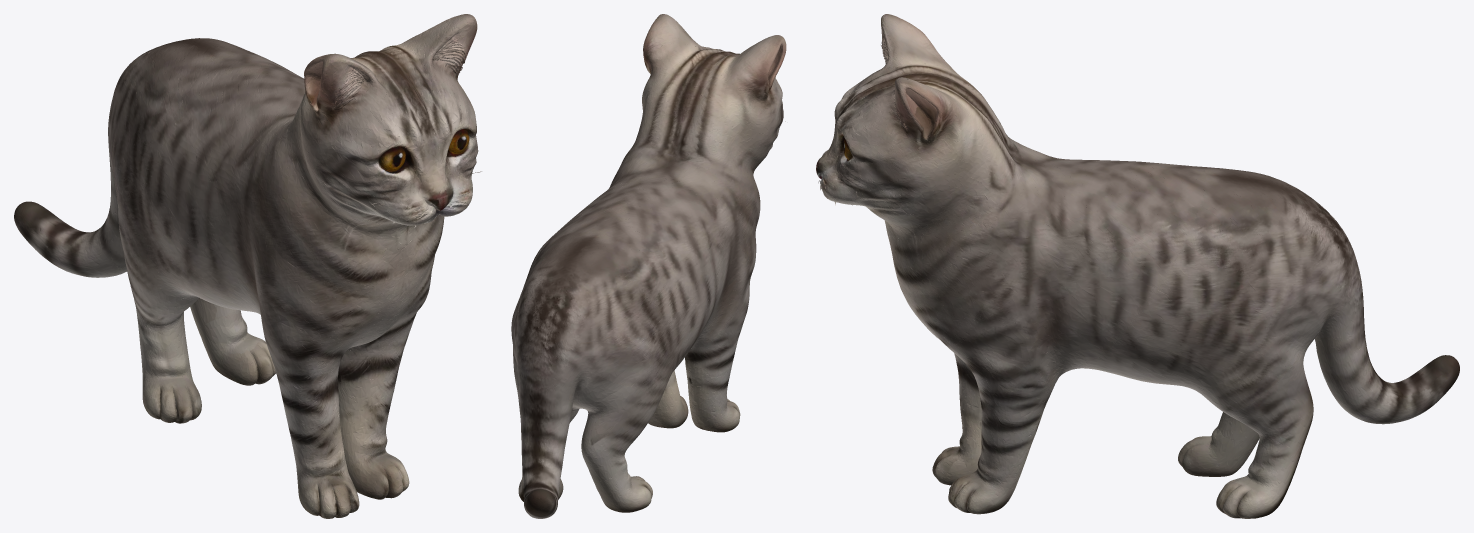
Rendered from Cat_mobile.glb.
3 renders of one model, left to right at view 1: azimuth 30°, elevation 25°; view 2: azimuth 150°, elevation 25°; view 3: azimuth 270°, elevation 25°, orthographic. The views are drawn at different scales.
Parts seen in each view (by area): view 1: tmpb1w_7xk9.obj; view 2: tmpb1w_7xk9.obj; view 3: tmpb1w_7xk9.obj.
Boxes of the visible parts, x1=… form: tmpb1w_7xk9.obj: x1=14, y1=14, x2=481, y2=518; tmpb1w_7xk9.obj: x1=511, y1=14, x2=786, y2=518; tmpb1w_7xk9.obj: x1=816, y1=14, x2=1459, y2=518.
Size of the model in its own units: 0.4831 by 1.23 by 1.6.
1 material, 1 textured.
